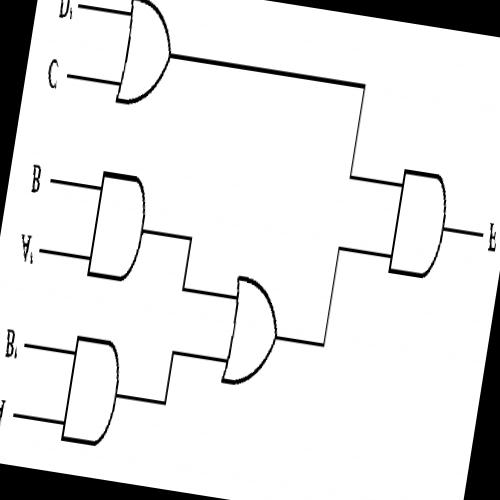and: (79, 160, 156, 295), (52, 325, 129, 459), (381, 157, 456, 291)
or: (216, 266, 290, 398), (108, 0, 183, 122)
